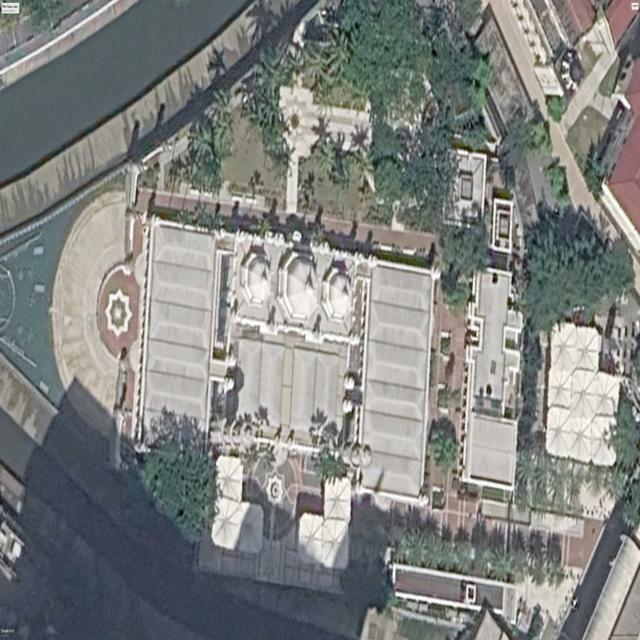mosque: (137, 221, 437, 502)
